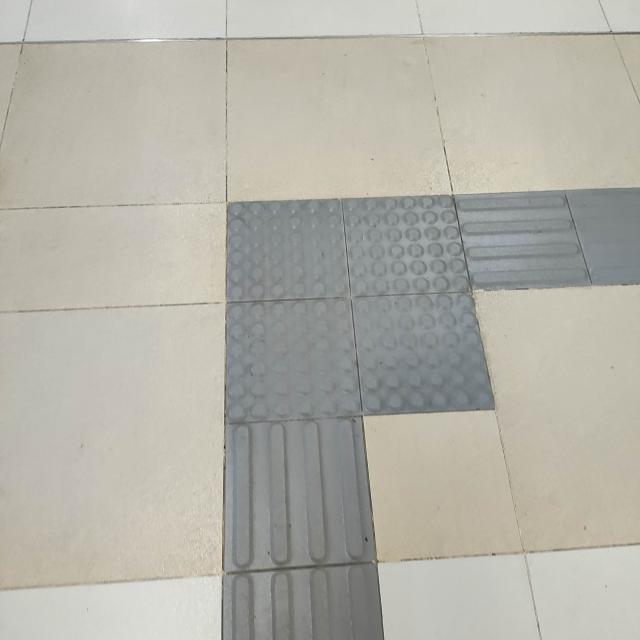kanan: (166, 150, 640, 476)
